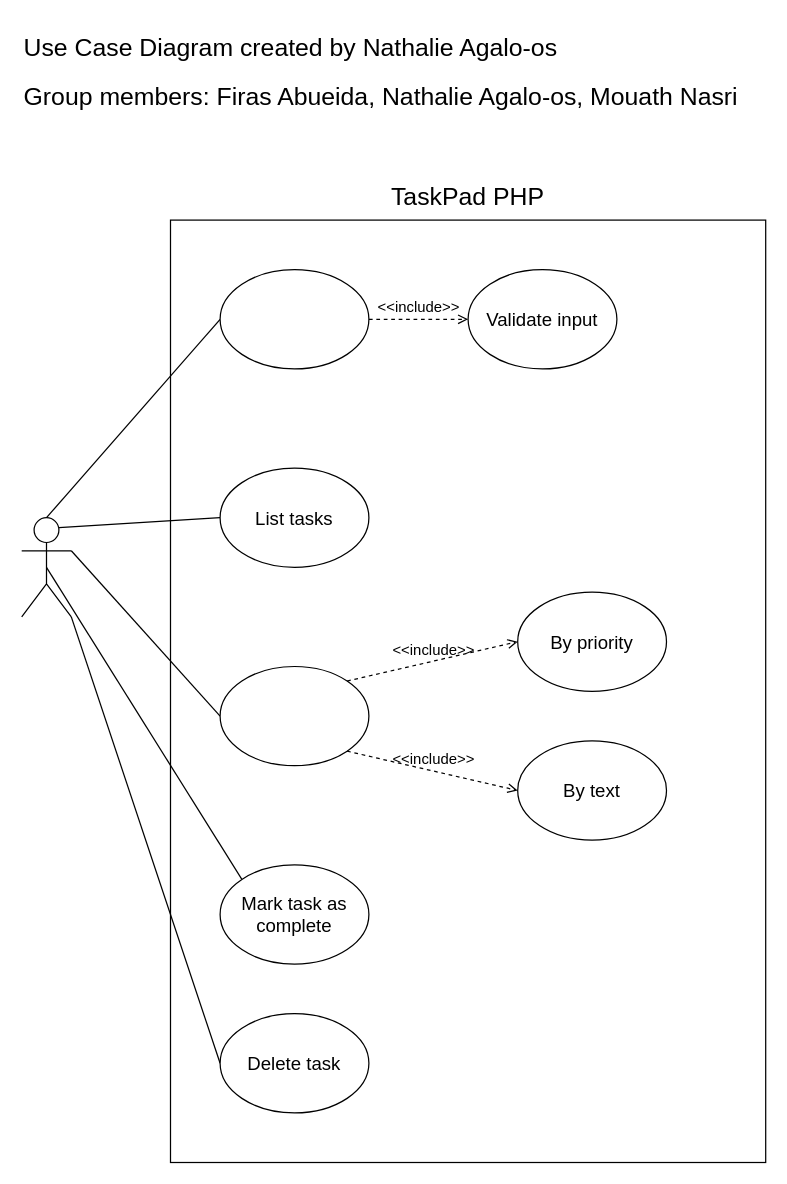
The diagram is 787 pixels wide and 1184 high, and some of its shapes have lost their labels. Each missing label, with the box of its shape:
Create task: (219, 268, 369, 369)
Filter tasks: (219, 665, 369, 766)
User: (20, 516, 71, 617)
